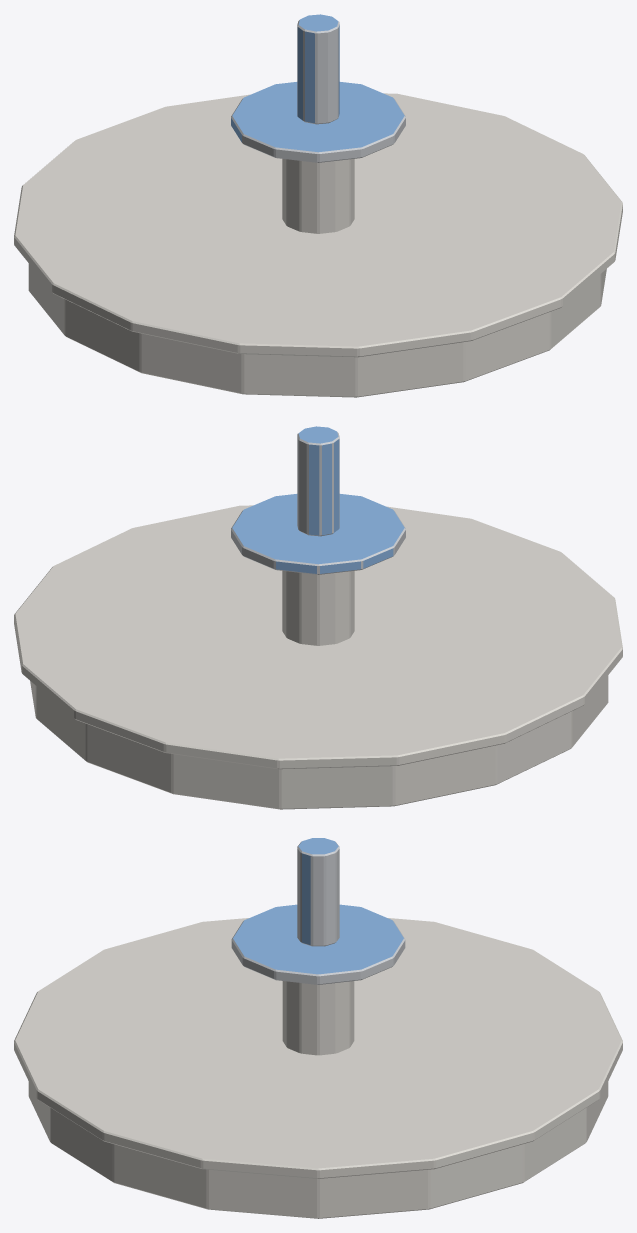
The picture shows the model from 3 angles, top to bottom: view 1: azimuth 30°, elevation 25°; view 2: azimuth 150°, elevation 25°; view 3: azimuth 270°, elevation 25°; orthographic projection.
Visible parts, largest first — view 1: 池沿, 水池, 喷水, 中心柱; view 2: 池沿, 水池, 喷水, 中心柱; view 3: 池沿, 水池, 喷水, 中心柱.
Boxes of the visible parts, x1,y1,x2,y2 form: 池沿: (14, 93, 622, 357); 水池: (28, 263, 606, 397); 喷水: (231, 14, 405, 162); 中心柱: (282, 159, 354, 233); 池沿: (14, 505, 622, 769); 水池: (30, 675, 608, 809); 喷水: (231, 426, 405, 574); 中心柱: (282, 571, 354, 645); 池沿: (14, 918, 622, 1178); 水池: (28, 1082, 608, 1218); 喷水: (231, 838, 405, 984); 中心柱: (282, 981, 354, 1055).
Size of the model in its own units: 839 by 381 by 839.
